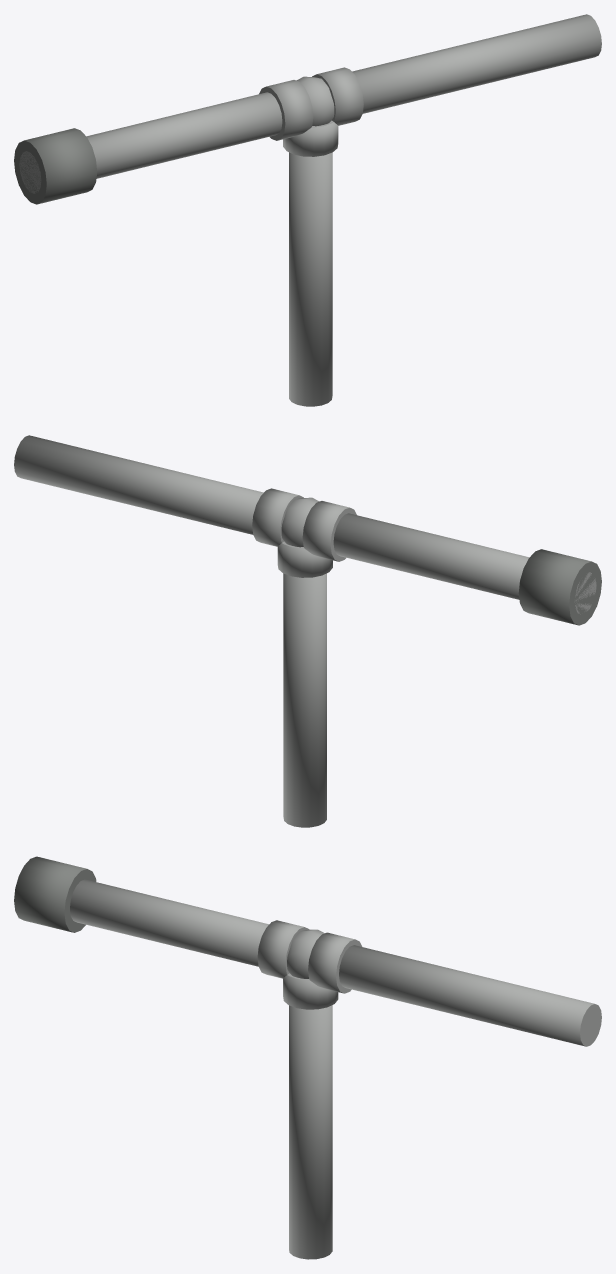
Rendered from pipe_m11_x8.obj.
The picture shows the model from 3 angles, top to bottom: view 1: azimuth 30°, elevation 25°; view 2: azimuth 150°, elevation 25°; view 3: azimuth 330°, elevation 25°; orthographic projection.
Visible parts, largest first — view 1: pipe1, pipe2, pipe8, sleeve8, fitting_socket8, fitting_socket2, fitting_socket1, fitting_hub; view 2: pipe1, pipe2, pipe8, sleeve8, fitting_socket8, fitting_socket2, fitting_socket1, fitting_hub; view 3: pipe2, pipe1, pipe8, sleeve8, fitting_socket2, fitting_socket8, fitting_socket1, fitting_hub.
Part boxes in pixels (x1,y1,x2,y2): pipe1: (289, 152, 332, 406); pipe2: (352, 14, 601, 113); pipe8: (19, 92, 282, 193); sleeve8: (14, 128, 97, 204); fitting_socket8: (259, 80, 313, 140); fitting_socket2: (312, 67, 363, 125); fitting_socket1: (283, 120, 338, 156); fitting_hub: (296, 76, 334, 126); pipe1: (283, 573, 326, 827); pipe2: (14, 435, 263, 534); pipe8: (333, 513, 596, 614); sleeve8: (518, 549, 601, 625); fitting_socket8: (302, 501, 356, 561); fitting_socket2: (252, 488, 303, 546); fitting_socket1: (277, 541, 332, 577); fitting_hub: (281, 497, 319, 547); pipe2: (339, 945, 601, 1046); pipe1: (289, 1005, 332, 1259); pipe8: (70, 879, 268, 966); sleeve8: (14, 856, 96, 932); fitting_socket2: (308, 932, 362, 993); fitting_socket8: (257, 920, 309, 978); fitting_socket1: (283, 973, 338, 1009); fitting_hub: (287, 929, 324, 978).
Size of the model in its own units: 1 by 0.5507 by 0.1014.
Materials: 2 (2 with a texture image).
